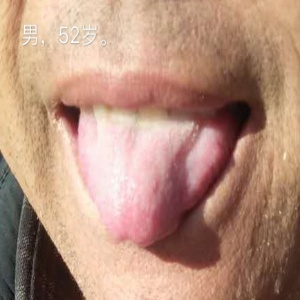st: (68, 115, 224, 252)
